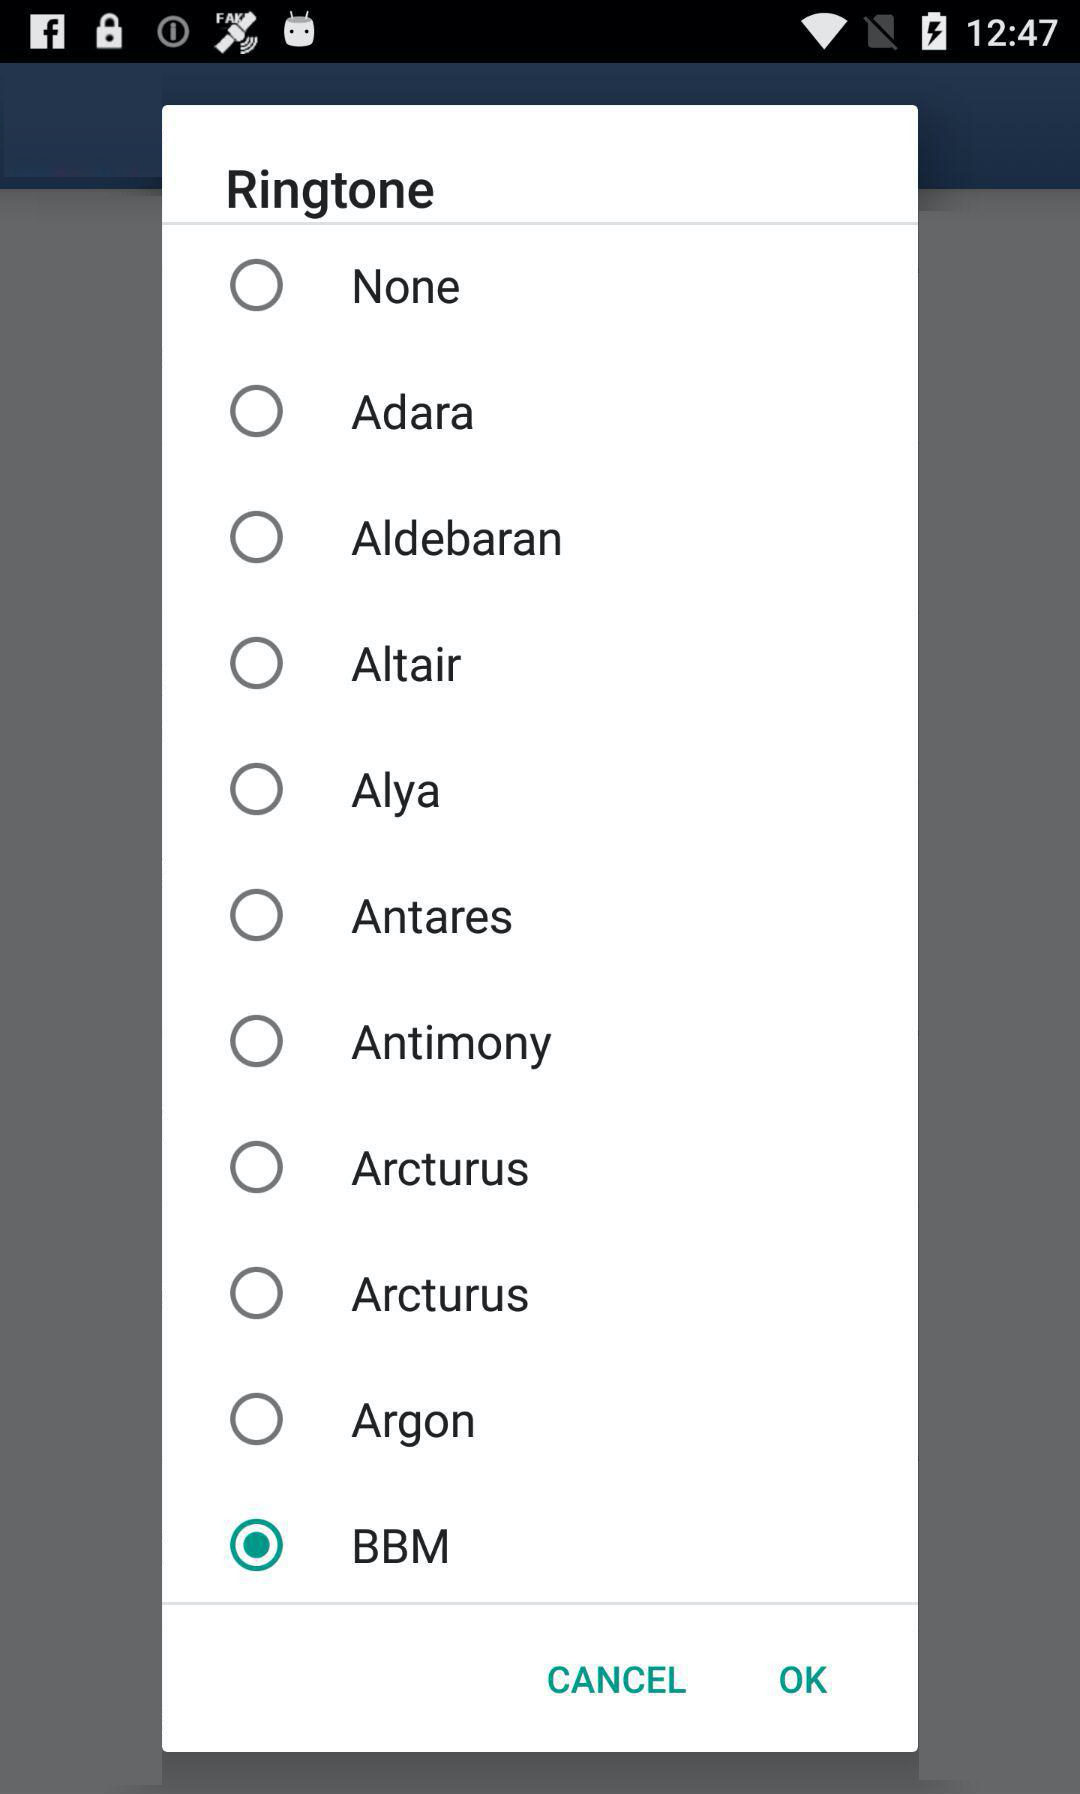CheckedTextView: (231, 1014, 553, 1071), (229, 510, 562, 565), (231, 1140, 529, 1196), (231, 1266, 529, 1321), (231, 888, 512, 943), (229, 1392, 477, 1449), (231, 384, 475, 440), (229, 259, 461, 314), (231, 637, 462, 692), (229, 1518, 448, 1574), (229, 762, 441, 819)
Modal: (161, 105, 919, 1753)
Text: (228, 169, 436, 220), (351, 1024, 553, 1071), (351, 518, 562, 557), (350, 1149, 529, 1188), (351, 1276, 529, 1313), (351, 898, 512, 935), (352, 1403, 477, 1449), (351, 393, 475, 432), (351, 645, 462, 684), (350, 771, 441, 819), (547, 1665, 687, 1695), (354, 269, 461, 306), (354, 1527, 448, 1565), (779, 1665, 829, 1695)
UpperTaskBar: (1, 1, 1080, 64)
